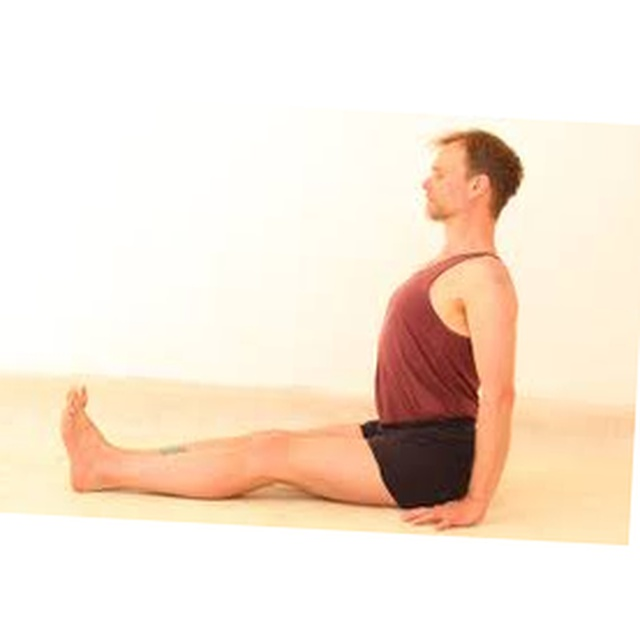Staff_Pose: (60, 129, 524, 532)
